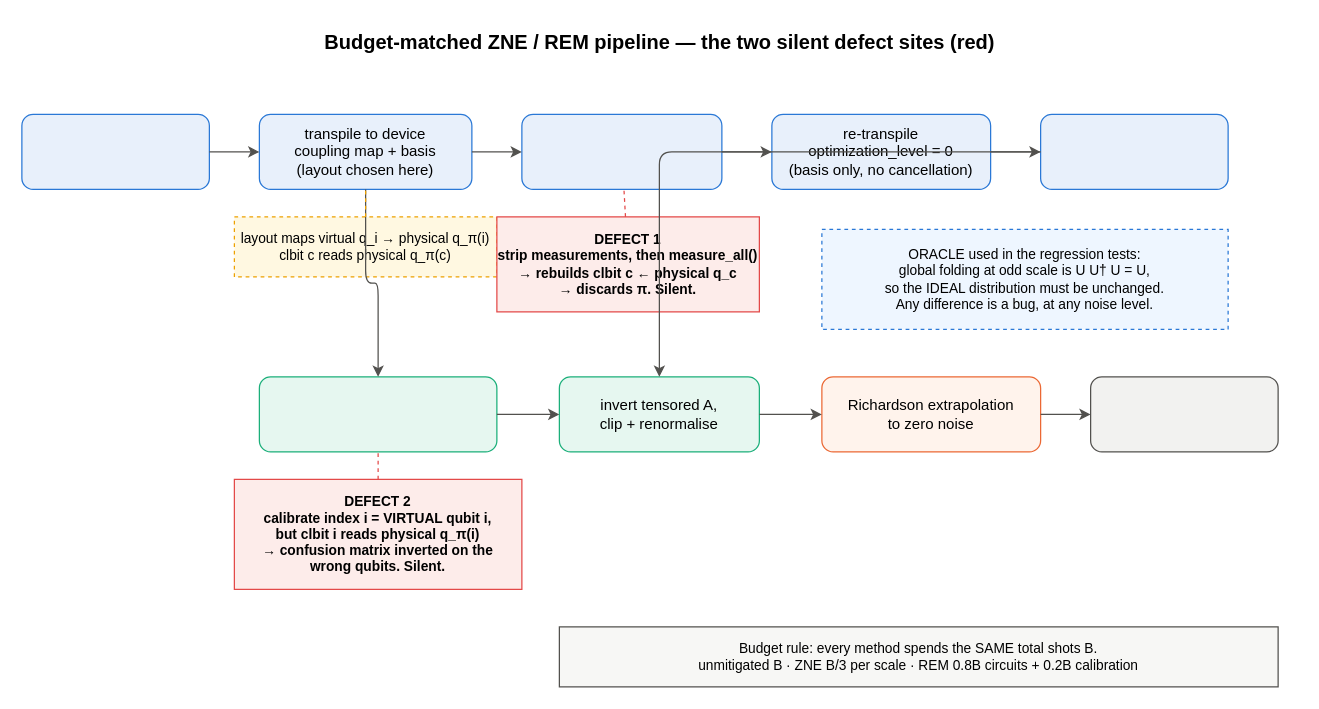
The diagram is 1319 pixels wide and 709 high, and some of its shapes have lost their labels. The box of each missing label's shape, as (x1, y1, x2, y2) in pixels:
estimate compare to exact noiseless value: (1089, 376, 1278, 452)
execute (noisy simulator): (1039, 113, 1228, 189)
global unitary folding scales (1, 3, 5): (521, 113, 722, 189)
QAOA circuit (virtual qubits): (21, 113, 209, 189)
readout calibration 2k circuits, |0〉/|1〉 per qubit: (258, 376, 497, 452)
